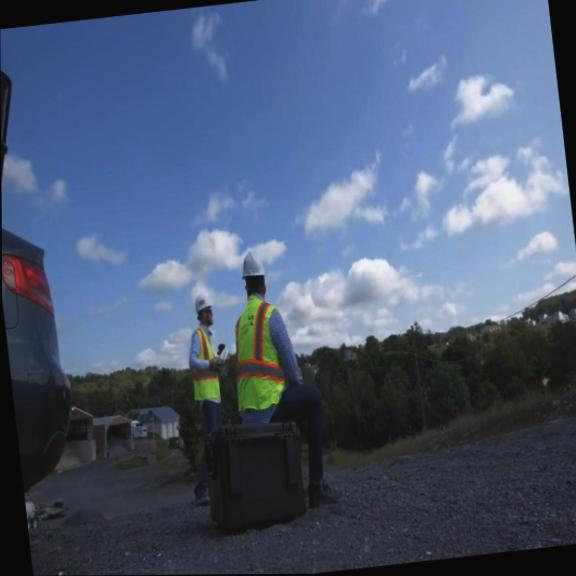safety_vest: (224, 291, 290, 412), (185, 323, 221, 401)
